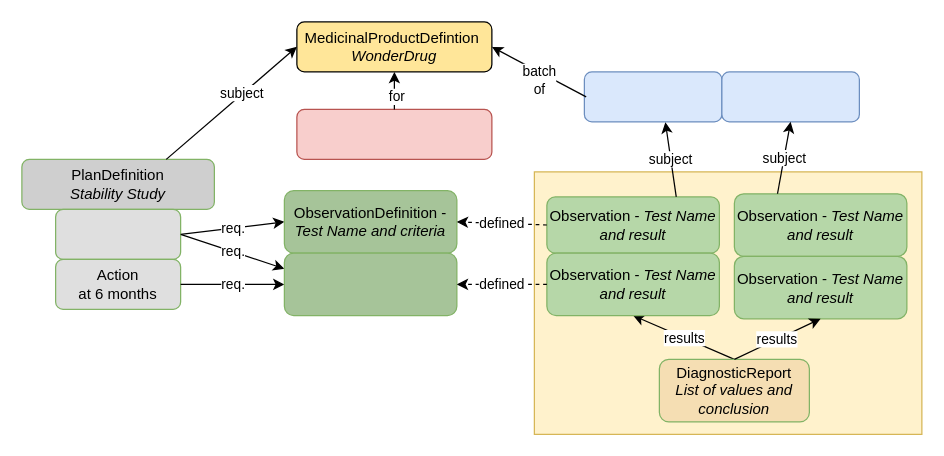
The diagram is 944 pixels wide and 456 high, and some of its shapes have lost their labels. Each missing label, with the box of its shape:
Action at 3 months: (54, 208, 181, 259)
Ingredient WonderSubstance: (296, 108, 492, 159)
Medication Batch 1: (583, 71, 722, 122)
Medication Batch 2: (721, 71, 859, 122)
ObservationDefinition - Another Test and criteria: (283, 252, 457, 316)
